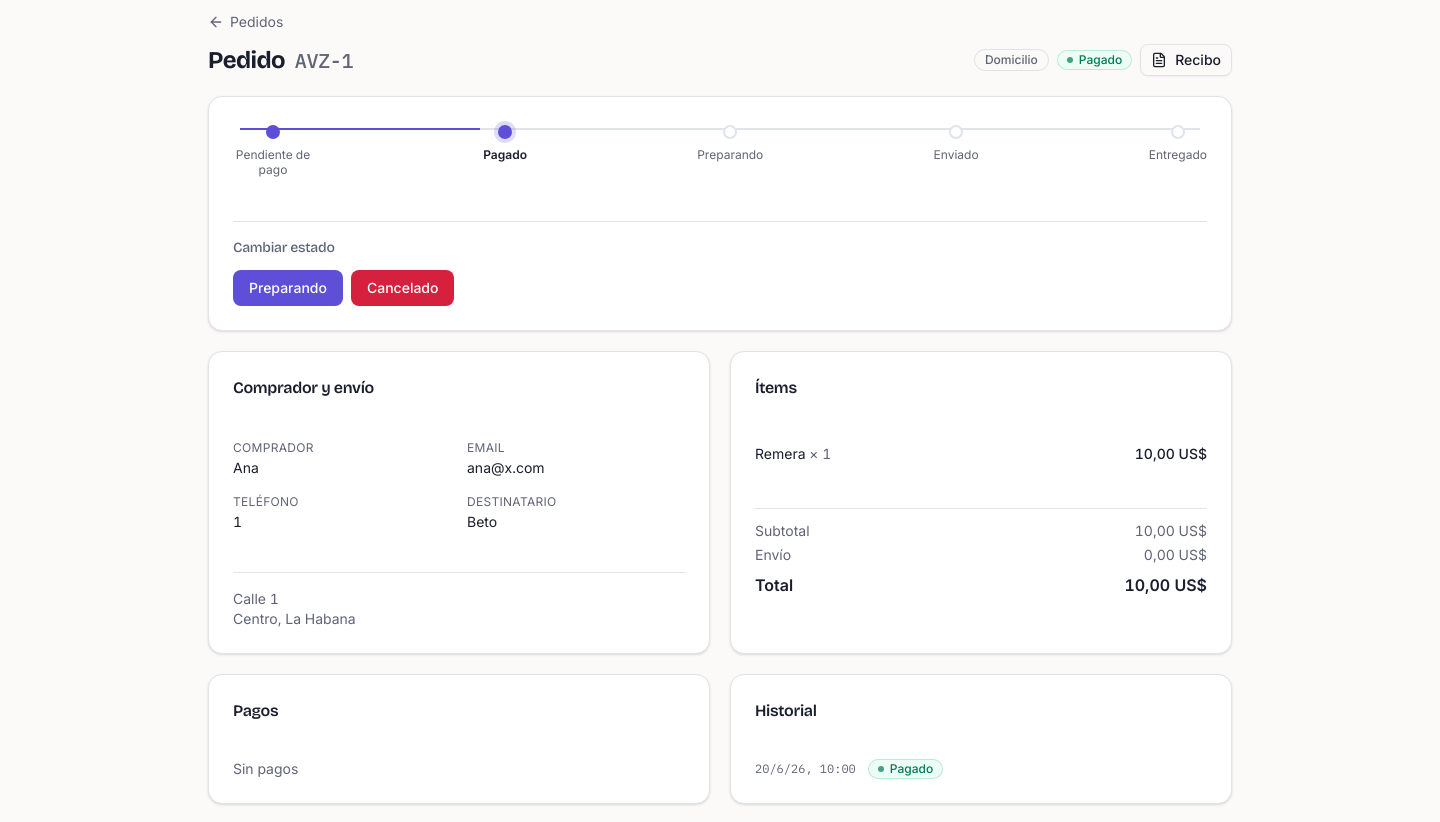
OrderDetailPage › un 409 muestra un toast de error
Click the button "Preparando" at (288, 288), box [233, 270, 343, 306]
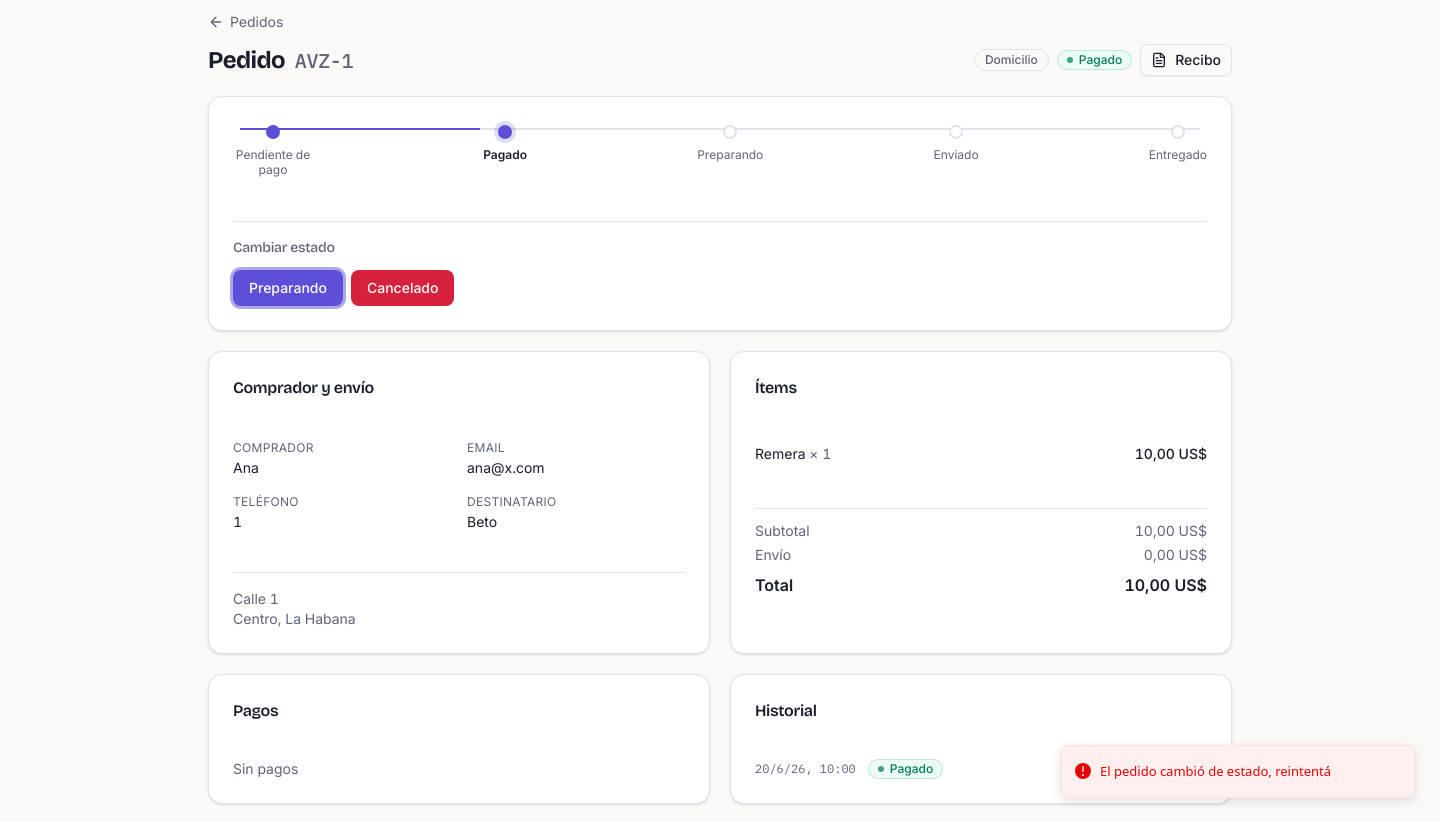
Expected: the text "El pedido cambió de estado, reintentá" is shown, [1100, 762, 1331, 781]
